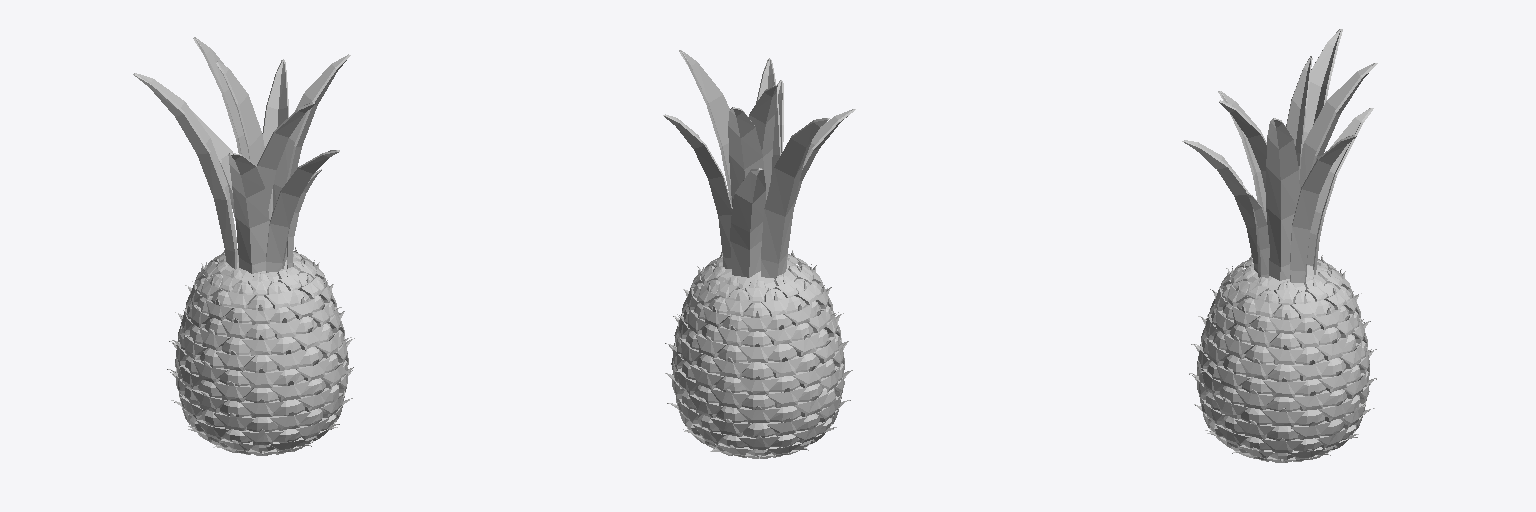
File: Piña.obj
3 views of the same model, side by side, from view 1: azimuth 30°, elevation 25°; view 2: azimuth 150°, elevation 25°; view 3: azimuth 270°, elevation 25° (orthographic).
Visible parts, largest first — view 1: Piñas.001_pineapple(quads).000; view 2: Piñas.001_pineapple(quads).000; view 3: Piñas.001_pineapple(quads).000.
Part boxes in pixels (left/top/right/bottom): Piñas.001_pineapple(quads).000: left=133, top=37, right=354, bottom=455; Piñas.001_pineapple(quads).000: left=663, top=50, right=855, bottom=458; Piñas.001_pineapple(quads).000: left=1182, top=29, right=1377, bottom=462.
Bounding box in the file's own units: 0.2647 × 0.5157 × 0.243.